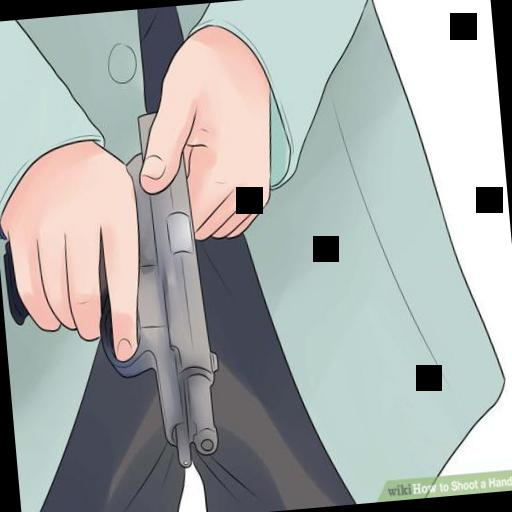Handgun: (0, 106, 220, 486)
